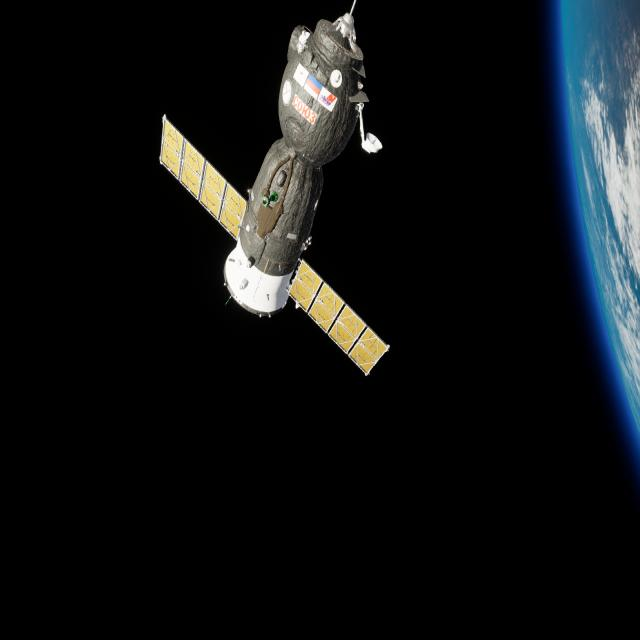Satellites revolving around earth: (156, 6, 392, 380)
